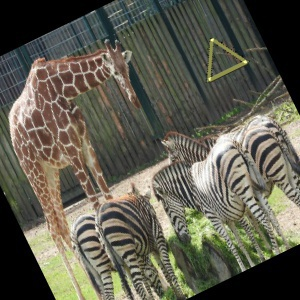triangle: (204, 37, 251, 83)
